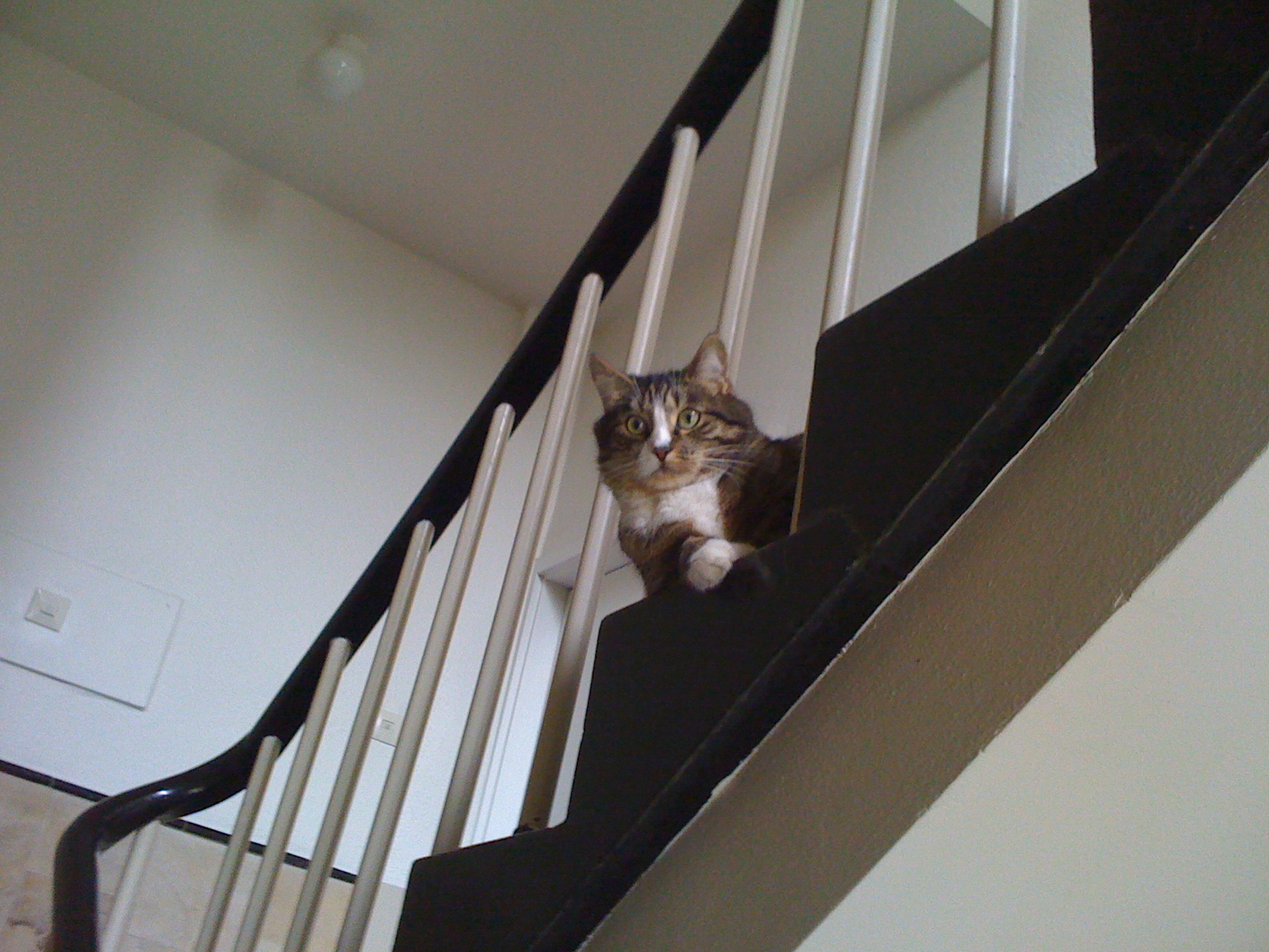cat: (592, 335, 797, 594)
